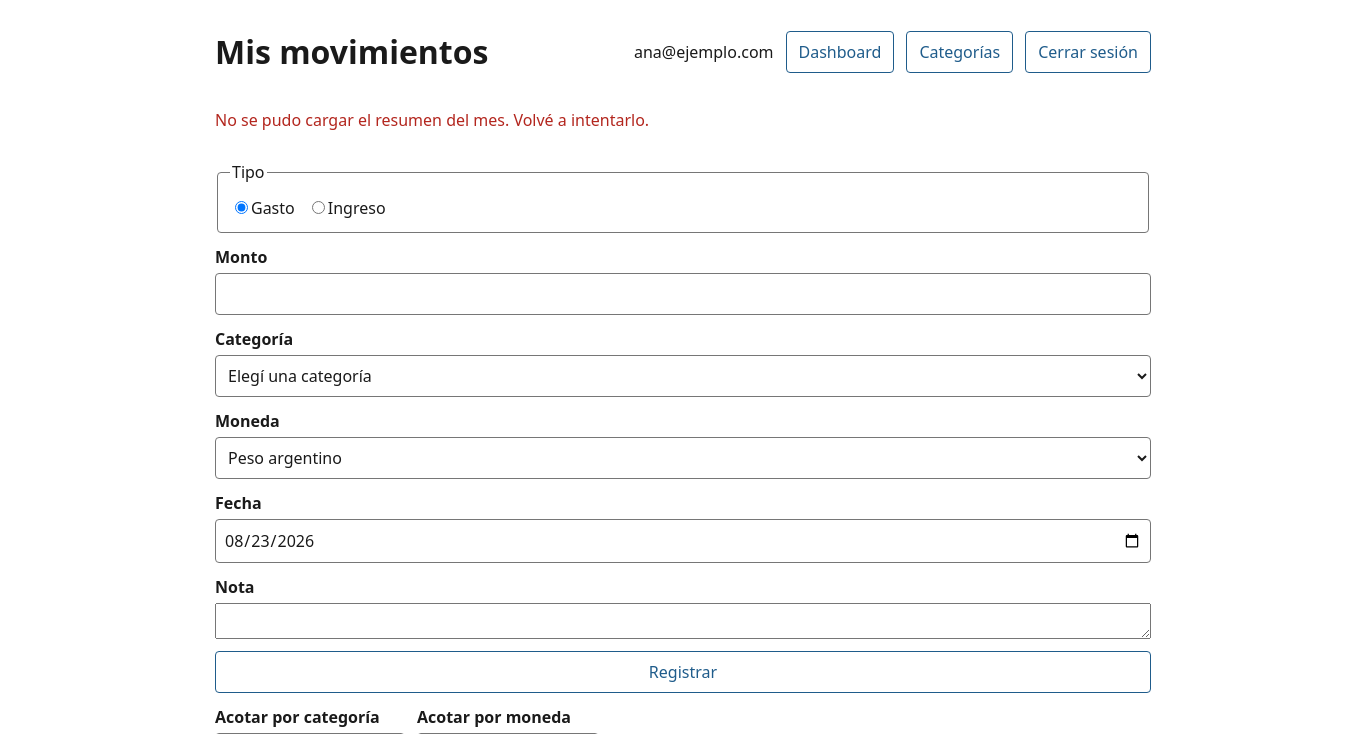
Test: PantallaMovimientos — el resumen del mes en curso › el cartel del fallo desaparece cuando una carga posterior sale bien
This screenshot has width=1366, height=734.
Expected: the message "No se pudo cargar el resumen del mes. Volvé a intentarlo." is shown, [215,109,649,131]
Type "500" into the number field labelled "Monto" at (683, 294), box [215,273,1151,315]
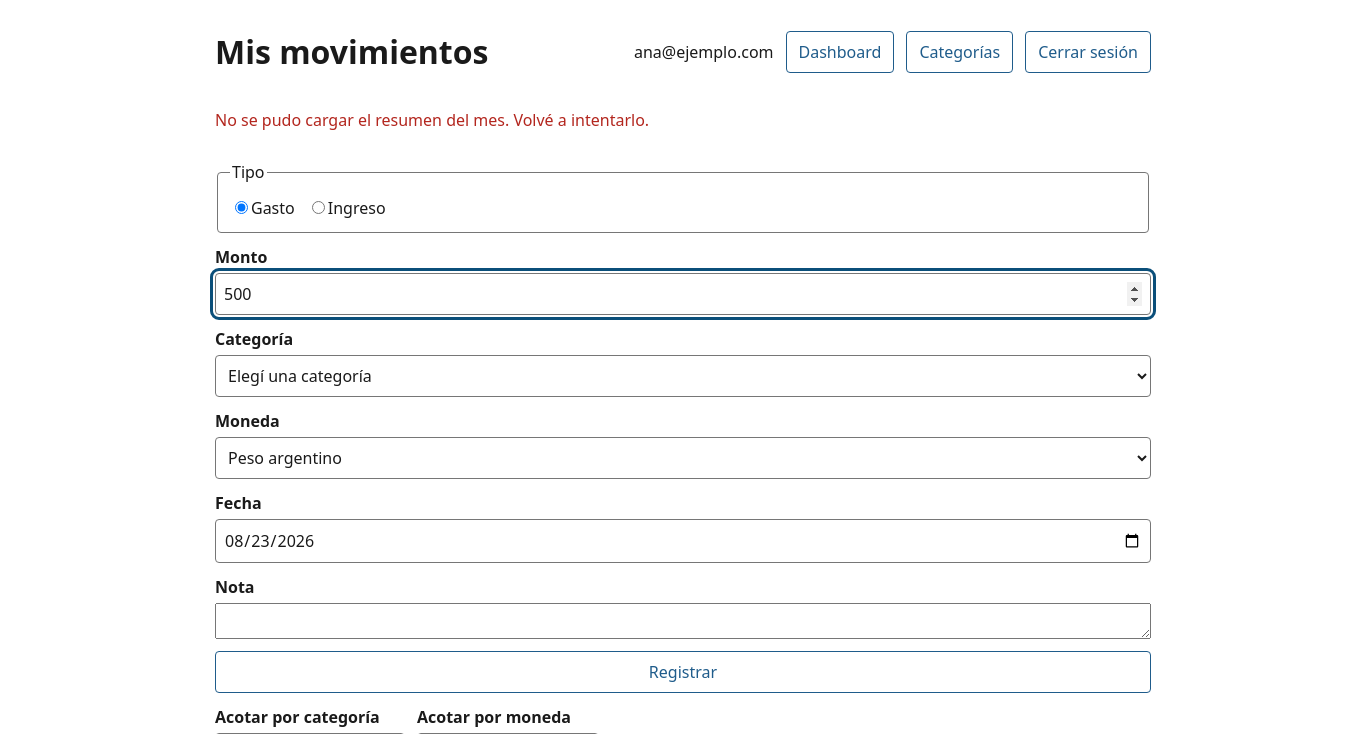
Select "Comida" in the dropdown labelled "Categoría" at (683, 376), box [215,355,1151,397]
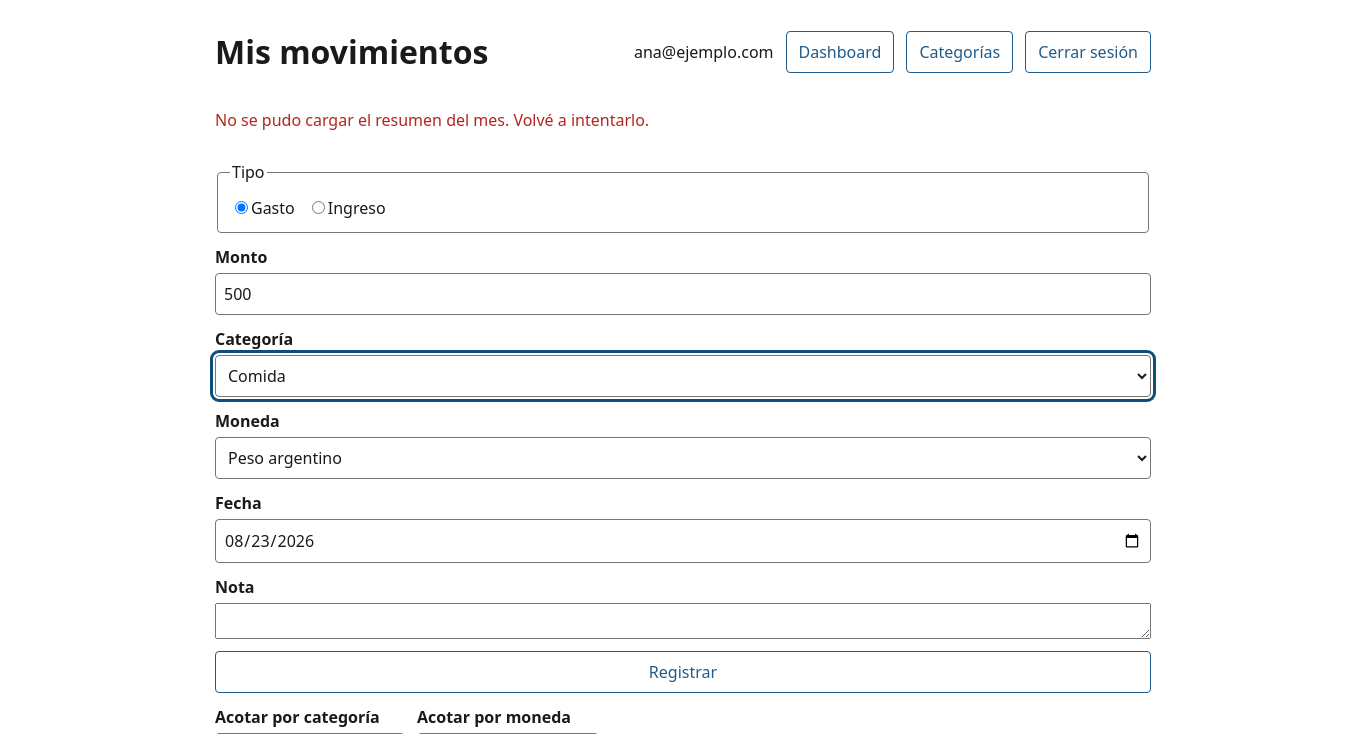
Click the button "Registrar" at (683, 672), box [215,651,1151,693]
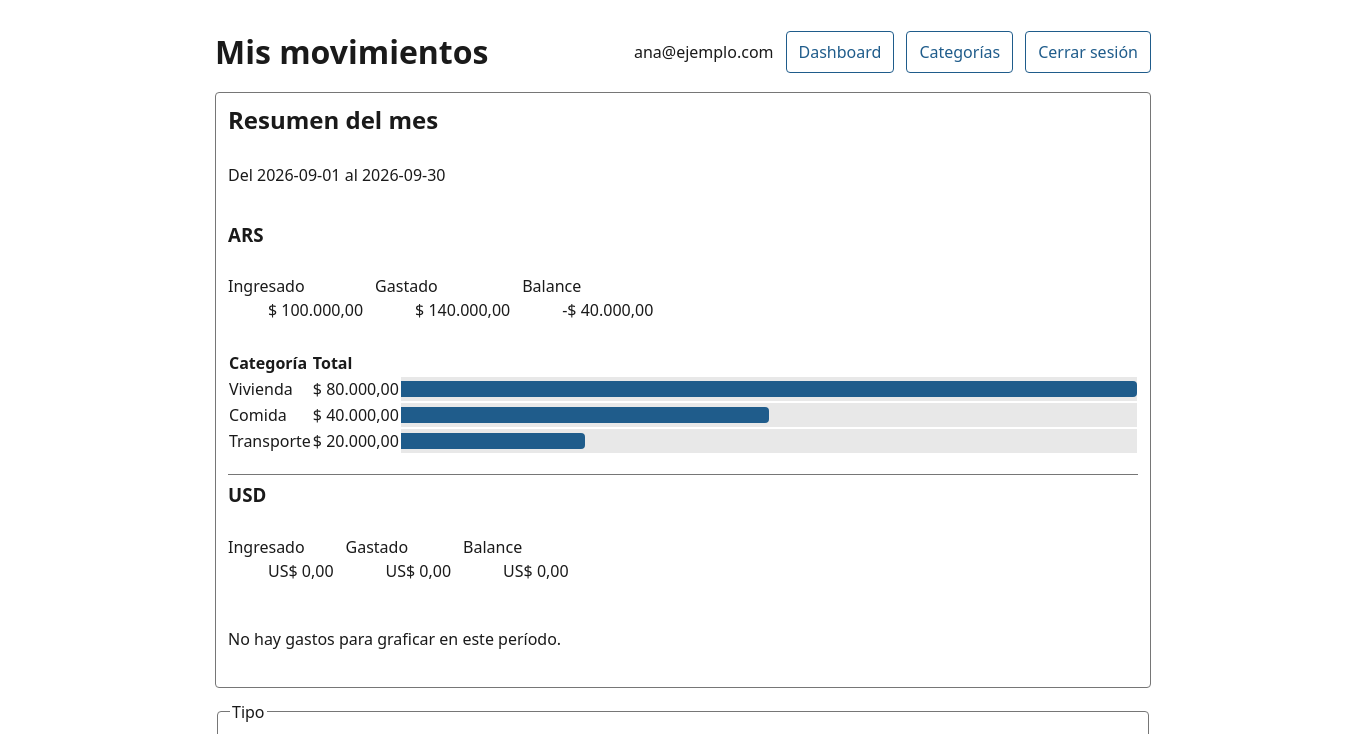
Expected: the element "Resumen del mes" is shown, [215,92,1151,688]
Expected: the text "No se pudo cargar el resumen" is gone
